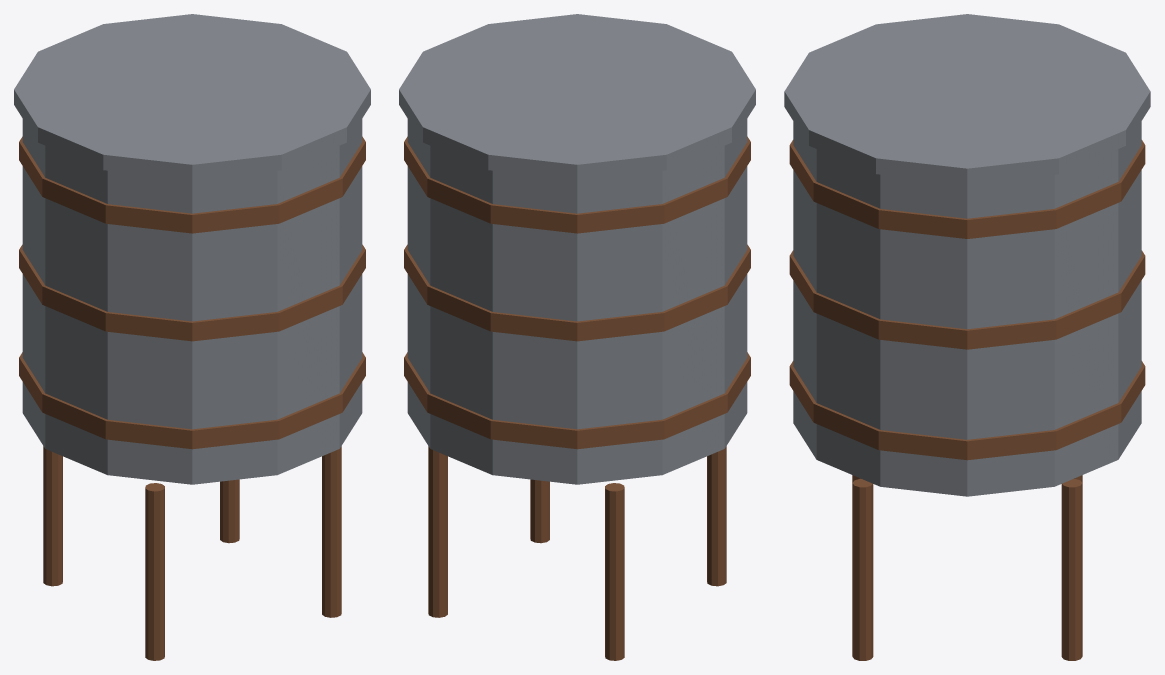
Rendered from PROP_WaterTank_LG.glb.
3 renders of one model, left to right at view 1: azimuth 30°, elevation 25°; view 2: azimuth 150°, elevation 25°; view 3: azimuth 270°, elevation 25°, orthographic. The views are drawn at different scales.
Parts seen in each view (by area): view 1: PROP_WaterTank_LG; view 2: PROP_WaterTank_LG; view 3: PROP_WaterTank_LG.
Boxes of the visible parts, bbox=[...] form: PROP_WaterTank_LG: bbox=[14, 14, 370, 660]; PROP_WaterTank_LG: bbox=[399, 14, 755, 660]; PROP_WaterTank_LG: bbox=[784, 14, 1150, 660].
Size of the model in its own units: 2.1 by 3.3 by 2.1.
